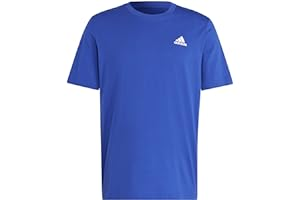design: (171, 33, 188, 49)
